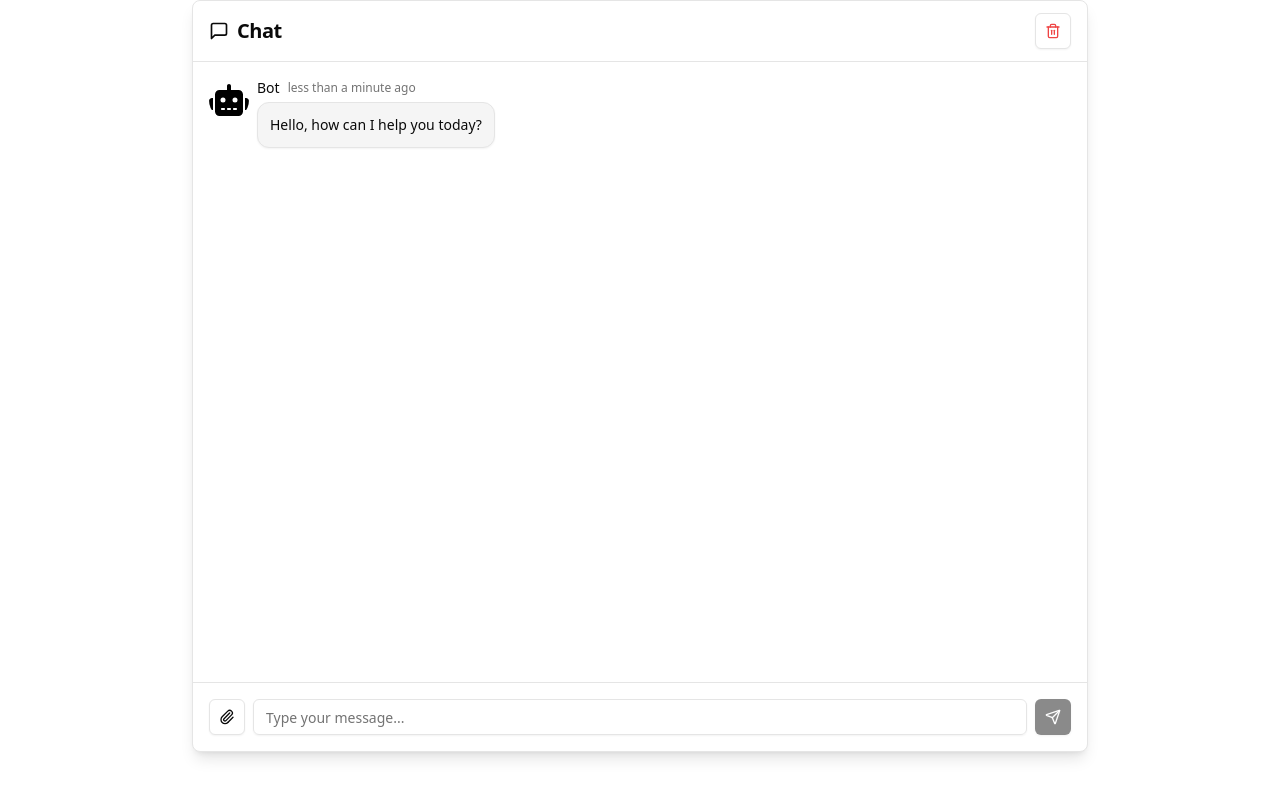
Scenario: ChatLayout › resets chat history when reset button is clicked
Type a message in the input field
Step 1. Type "test message" into the field with placeholder "Type your message..." → {"x": 640, "y": 717}, box [253,699,1027,735]
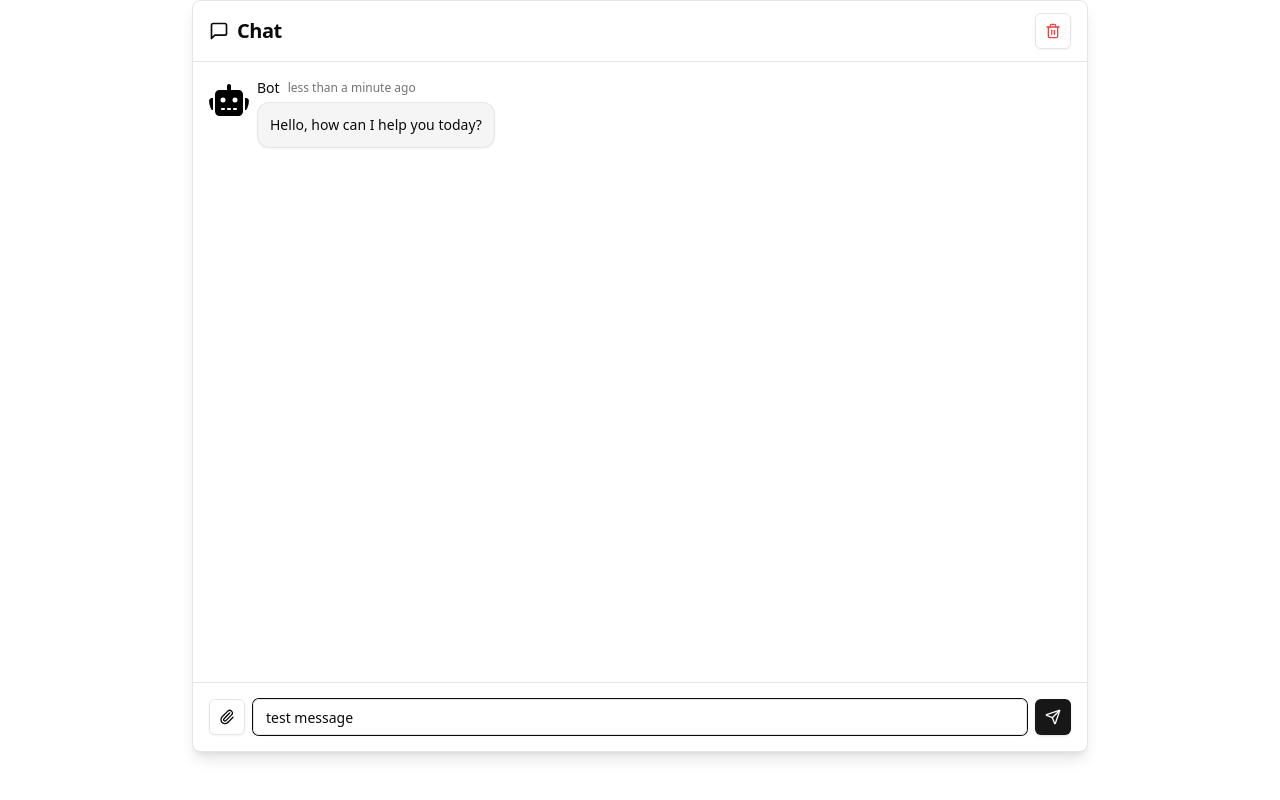
Find and click the send button
Step 2. Click the 3rd button named "send message" → {"x": 1053, "y": 717}, box [1035,699,1071,735]
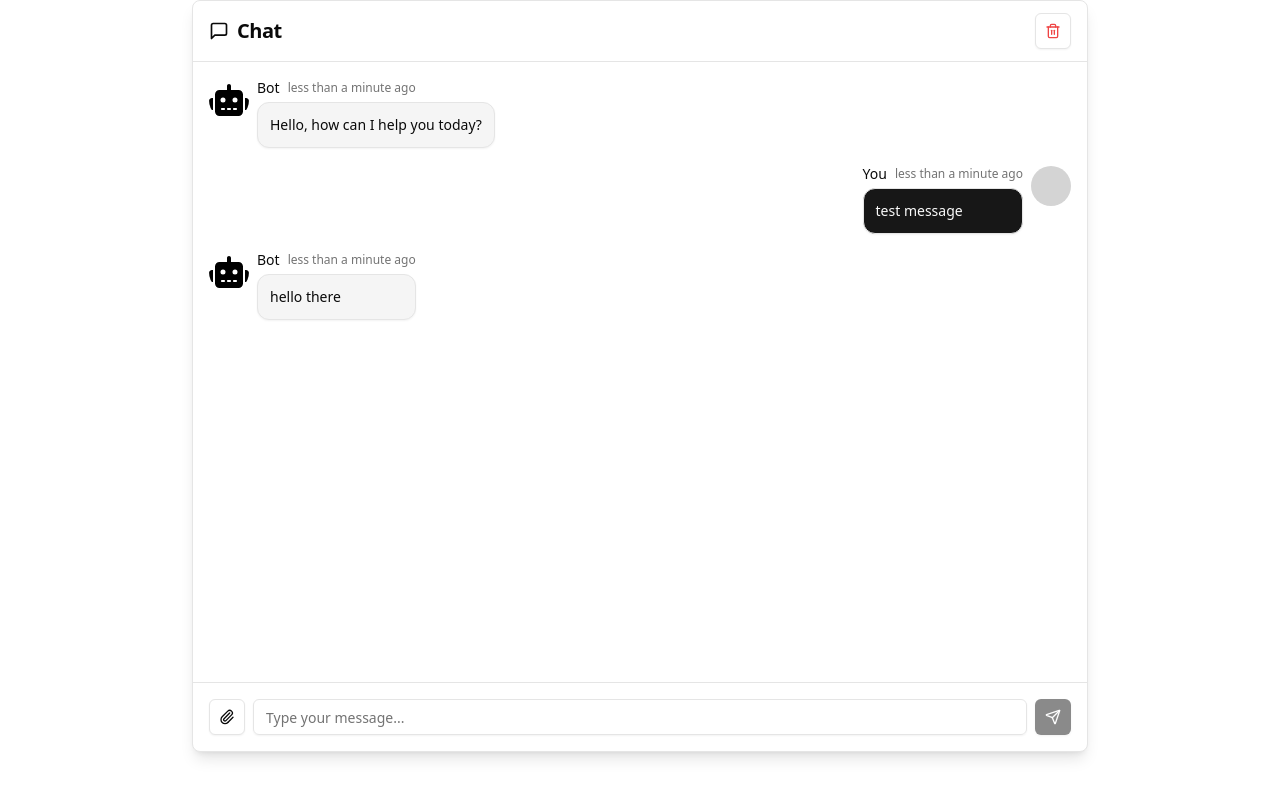
Expected: the text "test message" is shown, [876,201,963,220]
Expected: the text "hello there" is shown, [270,287,341,306]
Find and click the reset button
Step 3. Click the button with test id "reset-chat-button" → {"x": 1053, "y": 31}, box [1035,13,1071,49]
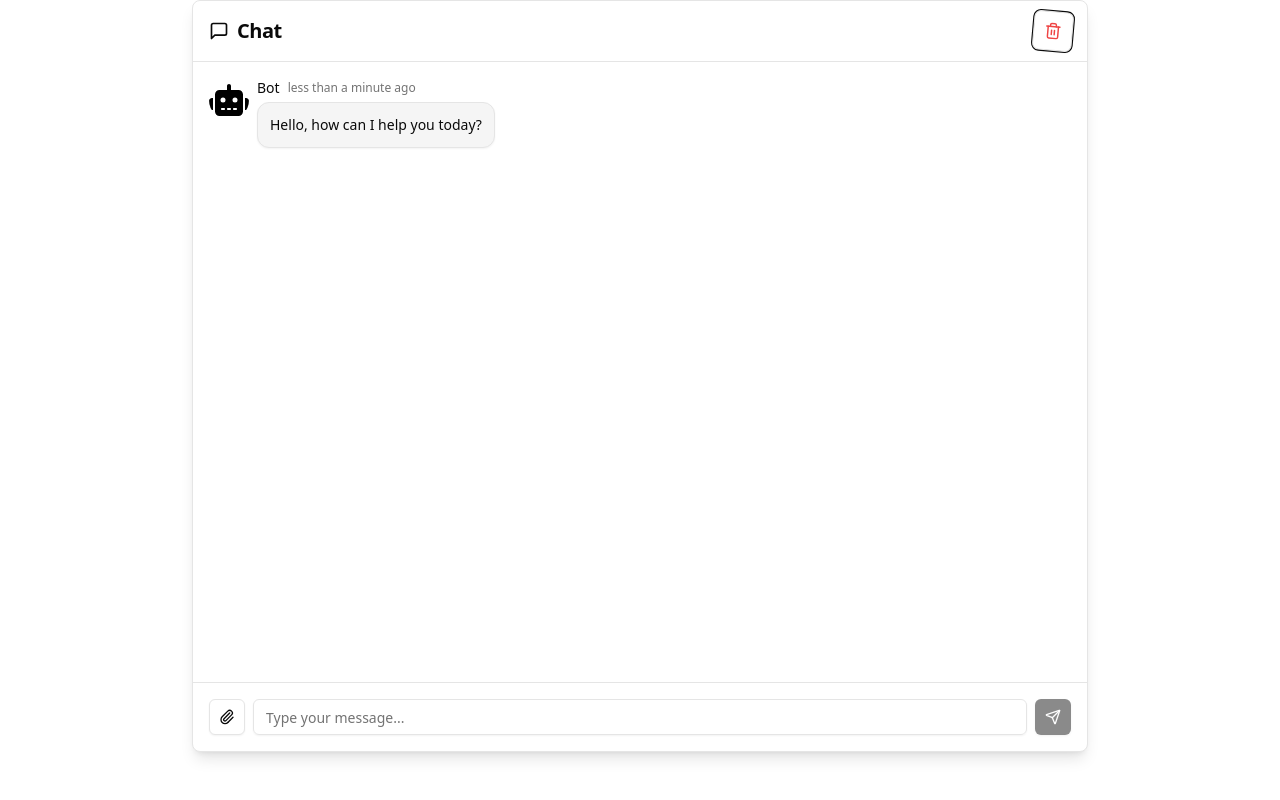
Expected: the text "Hello, how can I help you today?" is shown, [270,115,482,134]
Expected: the text "test message" is gone
Expected: the text "hello there" is gone
